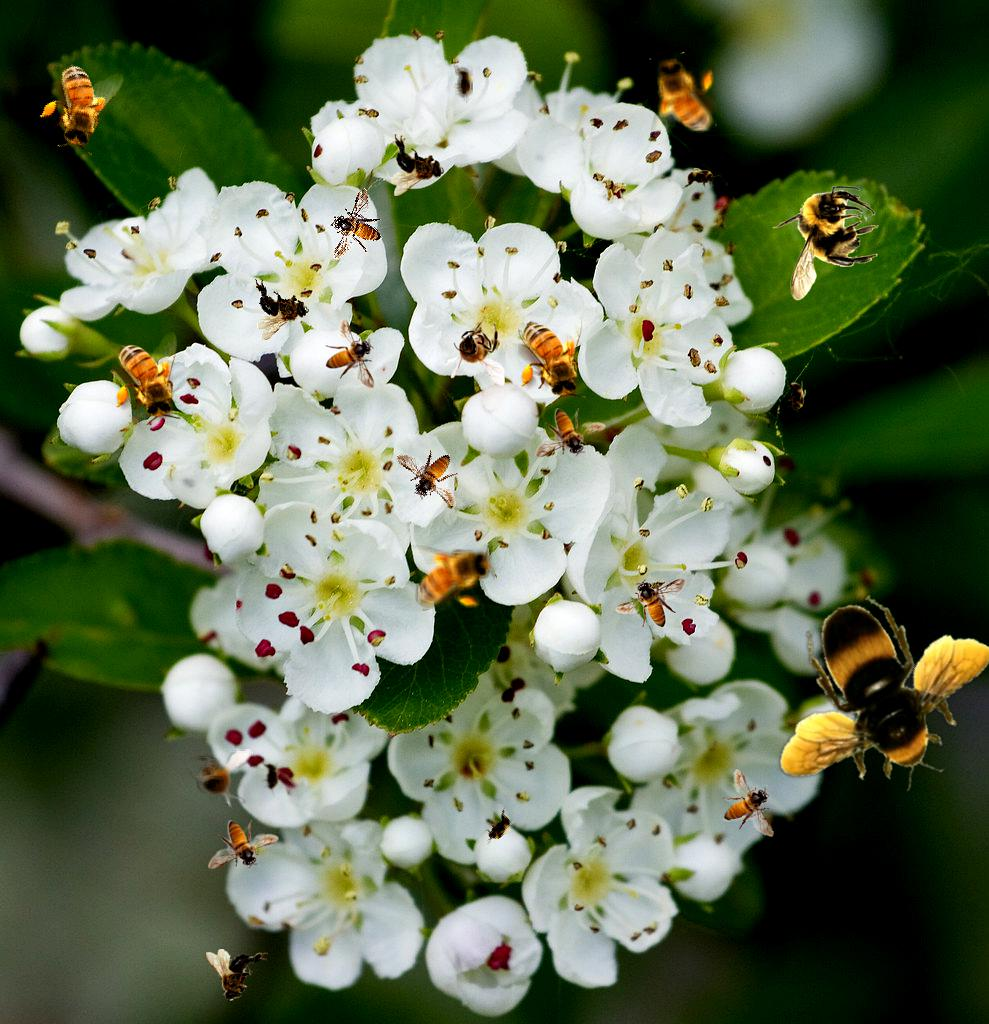Bee: (734, 557, 989, 848), (772, 186, 879, 301), (28, 47, 130, 162), (312, 186, 398, 273), (394, 434, 472, 521), (404, 543, 497, 611), (113, 332, 181, 425), (518, 311, 586, 404), (649, 52, 717, 145), (719, 765, 775, 842), (183, 749, 253, 810), (444, 316, 505, 386), (251, 273, 312, 341), (208, 820, 279, 870), (325, 318, 375, 389), (535, 408, 606, 458), (615, 578, 686, 628), (391, 134, 444, 196), (206, 949, 268, 1002), (477, 805, 521, 851), (785, 377, 807, 417), (260, 757, 282, 797), (681, 167, 721, 189), (453, 63, 475, 103)
